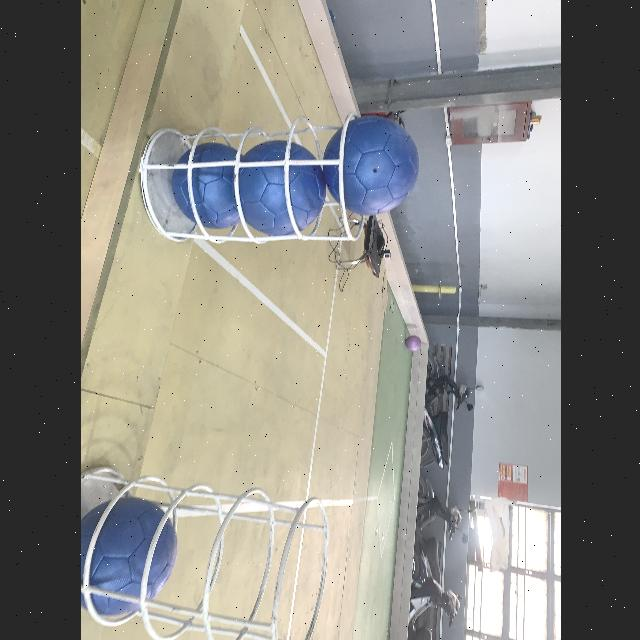B: (80, 499, 178, 617), (320, 117, 418, 215), (238, 141, 322, 233), (169, 143, 241, 231)
